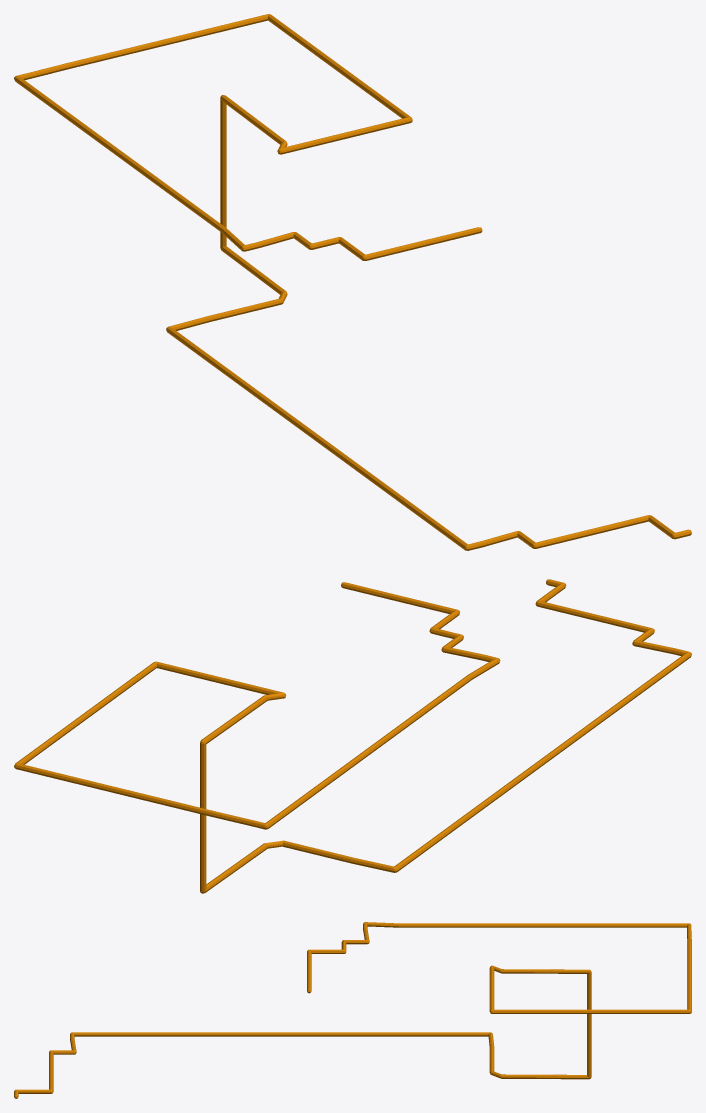
The picture shows the model from 3 angles, top to bottom: view 1: azimuth 30°, elevation 25°; view 2: azimuth 150°, elevation 25°; view 3: azimuth 270°, elevation 25°; orthographic projection. The views are drawn at different scales.
Bounding box in the file's own units: 912 × 520 × 2917.
